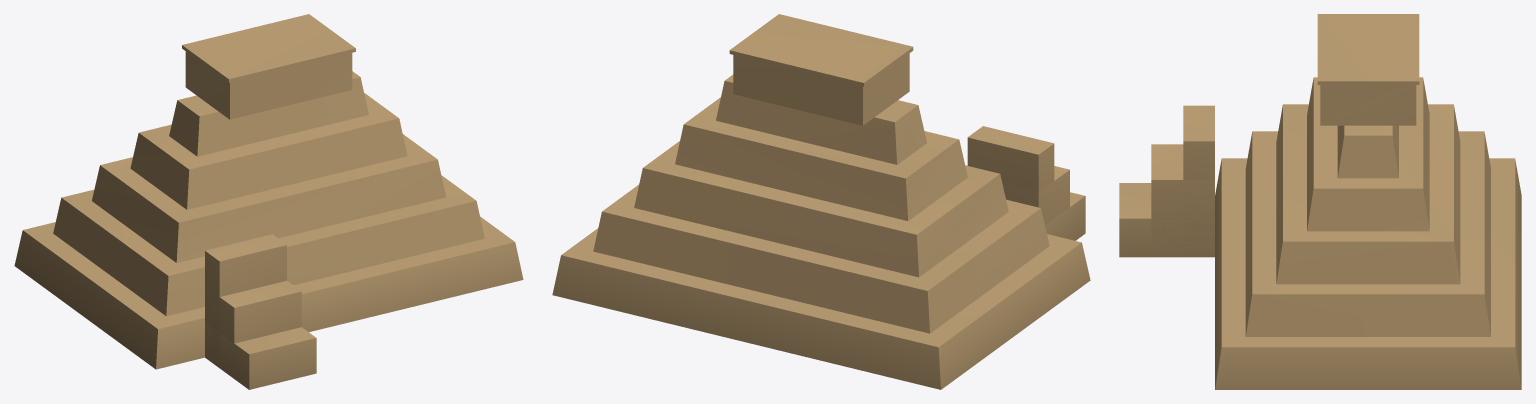
Rendered from moche_huaca_lod1.glb.
3 renders of one model, left to right at view 1: azimuth 30°, elevation 25°; view 2: azimuth 150°, elevation 25°; view 3: azimuth 270°, elevation 25°, orthographic. The views are drawn at different scales.
Parts seen in each view (by area): view 1: GEO-Arch_moche_huaca_LOD1; view 2: GEO-Arch_moche_huaca_LOD1; view 3: GEO-Arch_moche_huaca_LOD1.
Boxes of the visible parts, x1,y1,x2,y2 form: GEO-Arch_moche_huaca_LOD1: (14, 14, 523, 389); GEO-Arch_moche_huaca_LOD1: (552, 14, 1090, 389); GEO-Arch_moche_huaca_LOD1: (1119, 14, 1521, 389).
Size of the model in its own units: 24 by 14.12 by 21.
